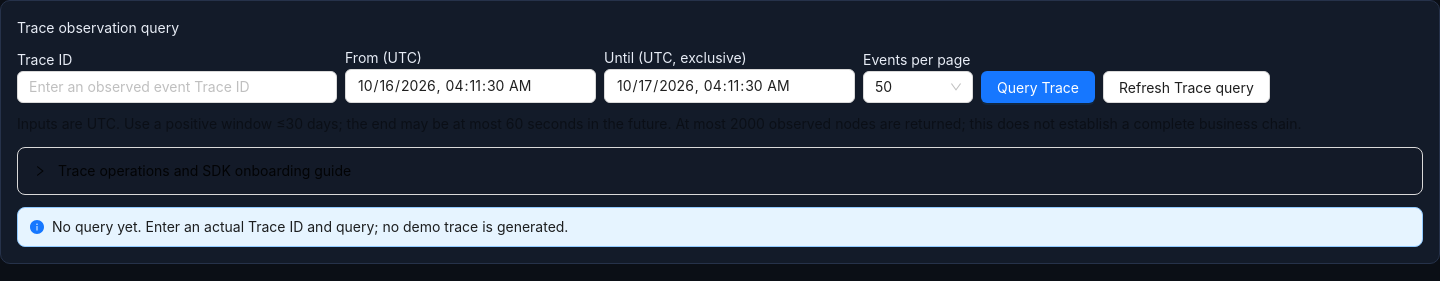
Test: Controlled Trace observation query › invalidates an old query promise and aborts it when the query draft changes
The image size is (1440, 281).
Type "sdk:observed-root" into the field labelled "Trace ID".
click(177, 87); type("sdk:observed-root")  # box [17, 71, 337, 103]
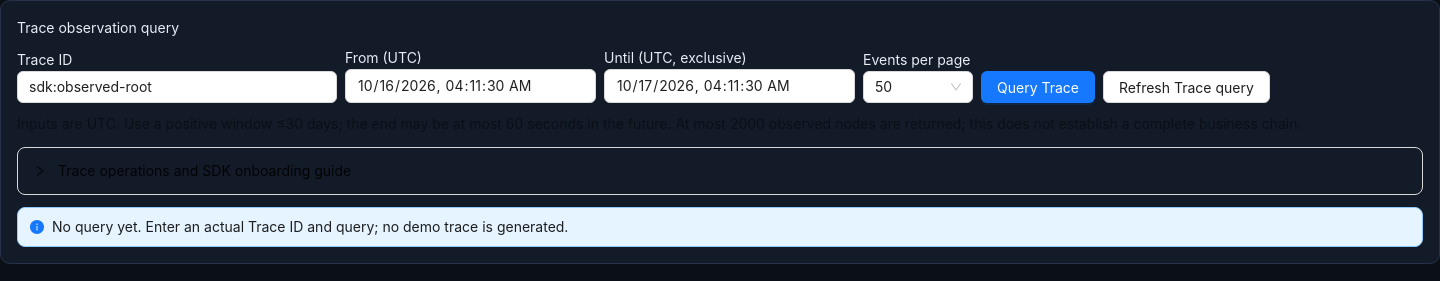
Replace the text in the field named "Trace from UTC" with "2026-09-19T10:00:00" at (470, 86), box [345, 69, 596, 103]
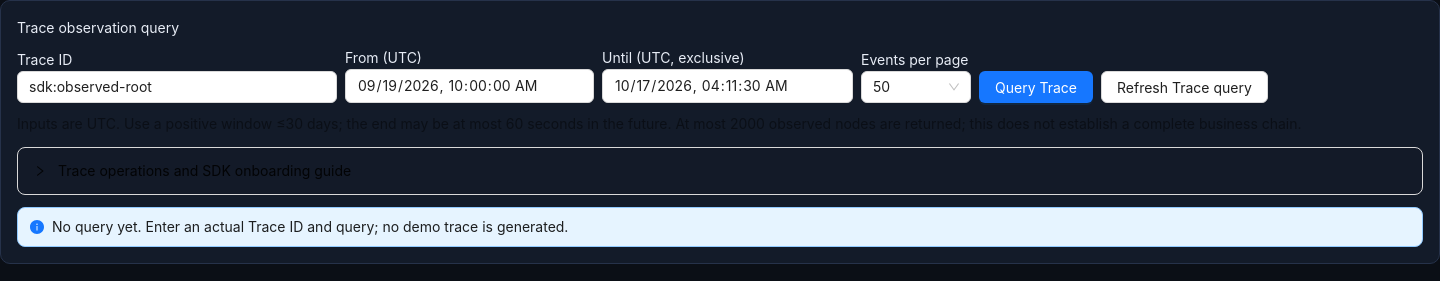
Replace the text in the field named "Trace until UTC" with "2026-09-20T10:00:00" at (728, 86), box [602, 69, 853, 103]
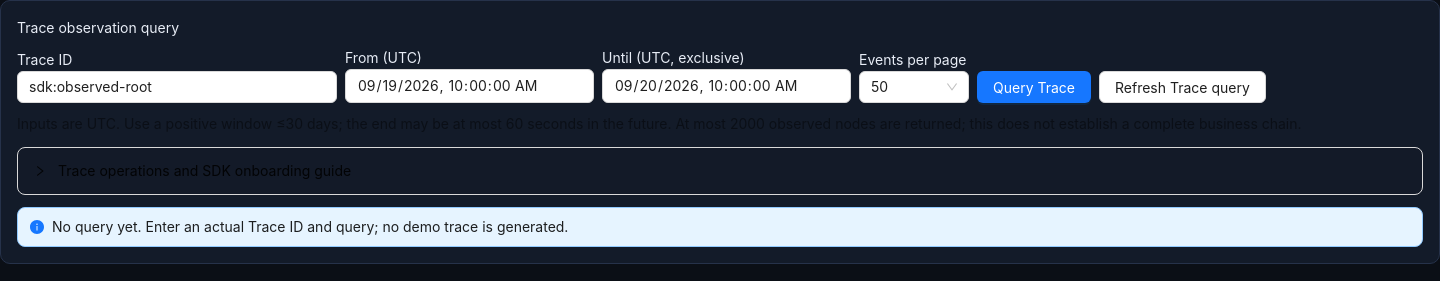
Click the button "Query Trace".
click(1034, 87)  # box [977, 71, 1091, 103]
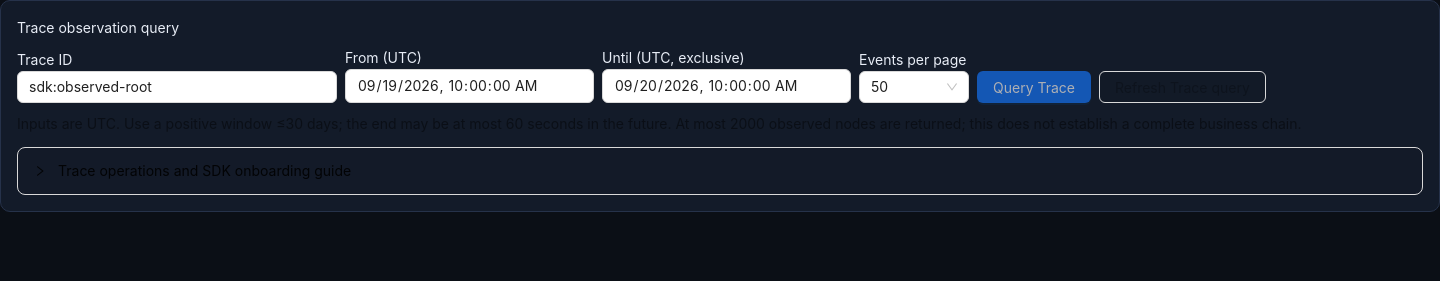
Replace the text in the field labelled "Trace ID" with "sdk:new-query" at (177, 87), box [17, 71, 337, 103]
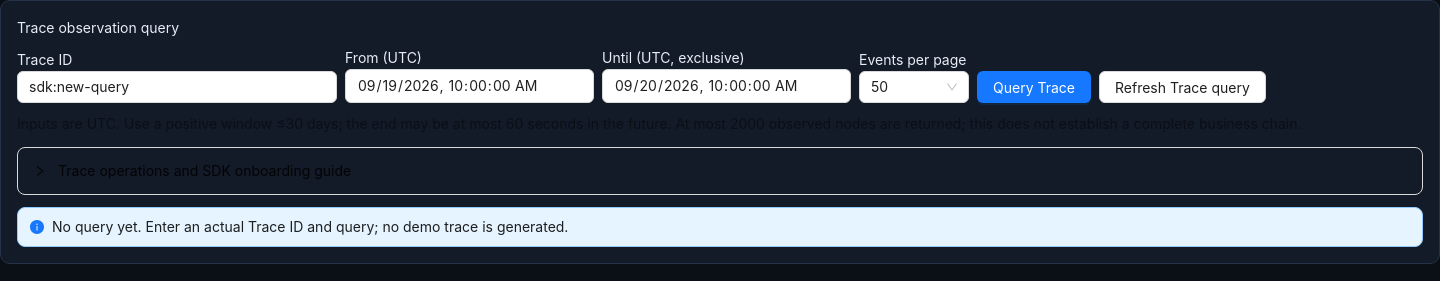
Expected: the text "No query yet" is shown, [52, 218, 568, 235]
